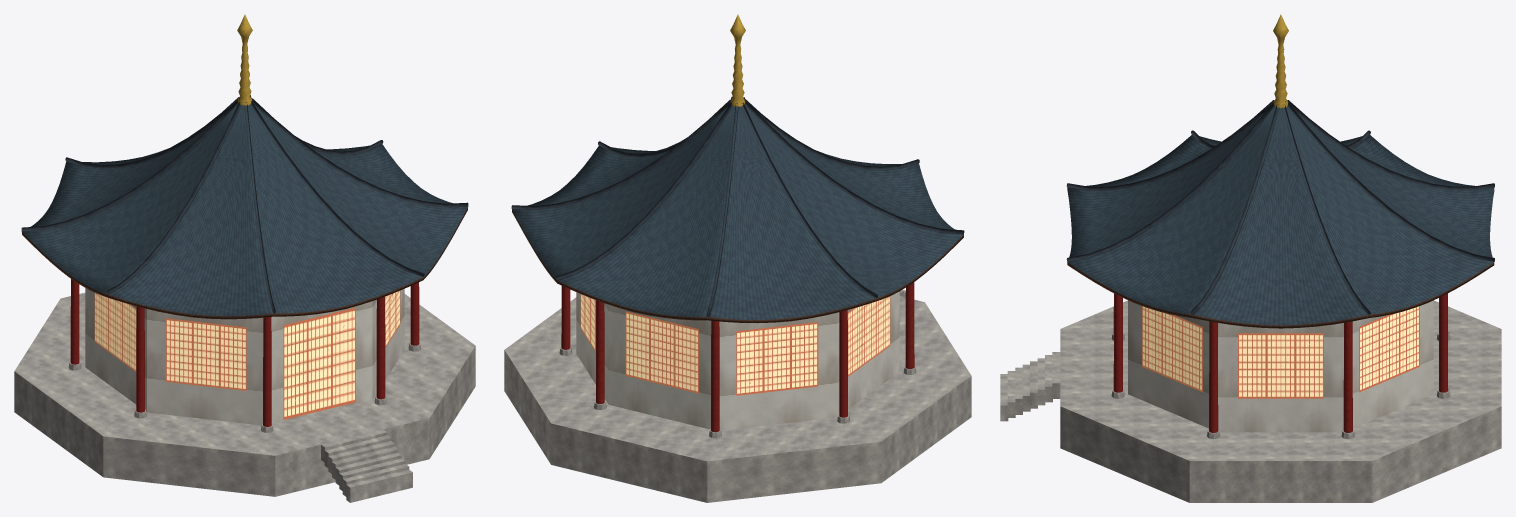
The model's file is formation_hall.glb.
3 views of the same model, side by side, from view 1: azimuth 30°, elevation 25°; view 2: azimuth 150°, elevation 25°; view 3: azimuth 270°, elevation 25° (orthographic). The views are drawn at different scales.
Parts seen in each view (by area): view 1: FormationHallCap, FormationHallPlinth, FormationHallWindows, FormationHallWalls, FormationHallCapRidges, FormationHallPlinthSteps, FormationHallPillars, FormationHallSpire; view 2: FormationHallCap, FormationHallPlinth, FormationHallWalls, FormationHallWindows, FormationHallCapRidges, FormationHallPillars, FormationHallSpire; view 3: FormationHallCap, FormationHallPlinth, FormationHallWalls, FormationHallWindows, FormationHallCapRidges, FormationHallPillars, FormationHallPlinthSteps, FormationHallSpire.
Part boxes in pixels (x1,y1,x2,y2): FormationHallCap: (21, 103, 467, 319); FormationHallPlinth: (14, 292, 475, 496); FormationHallWindows: (94, 290, 400, 419); FormationHallWalls: (85, 288, 404, 425); FormationHallCapRidges: (21, 95, 468, 313); FormationHallPlinthSteps: (321, 429, 412, 502); FormationHallPillars: (70, 279, 419, 426); FormationHallSpire: (237, 14, 252, 105); FormationHallCap: (512, 104, 963, 323); FormationHallPlinth: (504, 296, 971, 502); FormationHallWalls: (576, 291, 899, 430); FormationHallWindows: (580, 294, 890, 395); FormationHallCapRidges: (511, 96, 964, 316); FormationHallPillars: (561, 282, 914, 432); FormationHallSpire: (730, 14, 745, 106); FormationHallCap: (1067, 106, 1494, 328); FormationHallPlinth: (1060, 300, 1501, 502); FormationHallWalls: (1128, 300, 1433, 432); FormationHallWindows: (1142, 306, 1419, 398); FormationHallCapRidges: (1066, 100, 1494, 314); FormationHallPillars: (1113, 293, 1448, 432); FormationHallPlinthSteps: (1000, 352, 1060, 421); FormationHallSpire: (1273, 14, 1288, 108).
Size of what is drawn, in the model's own units: 19 by 18.8 by 21.58.
Materials: 9 (9 with a texture image).
